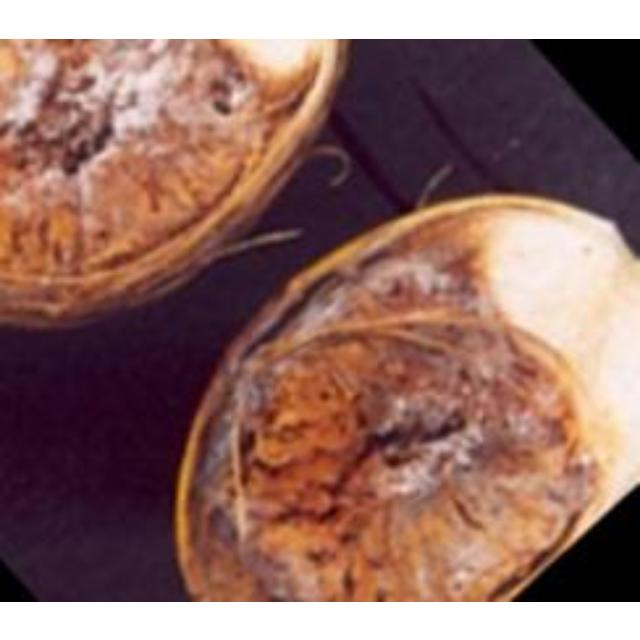damaged: (176, 198, 637, 599), (0, 38, 346, 321)
